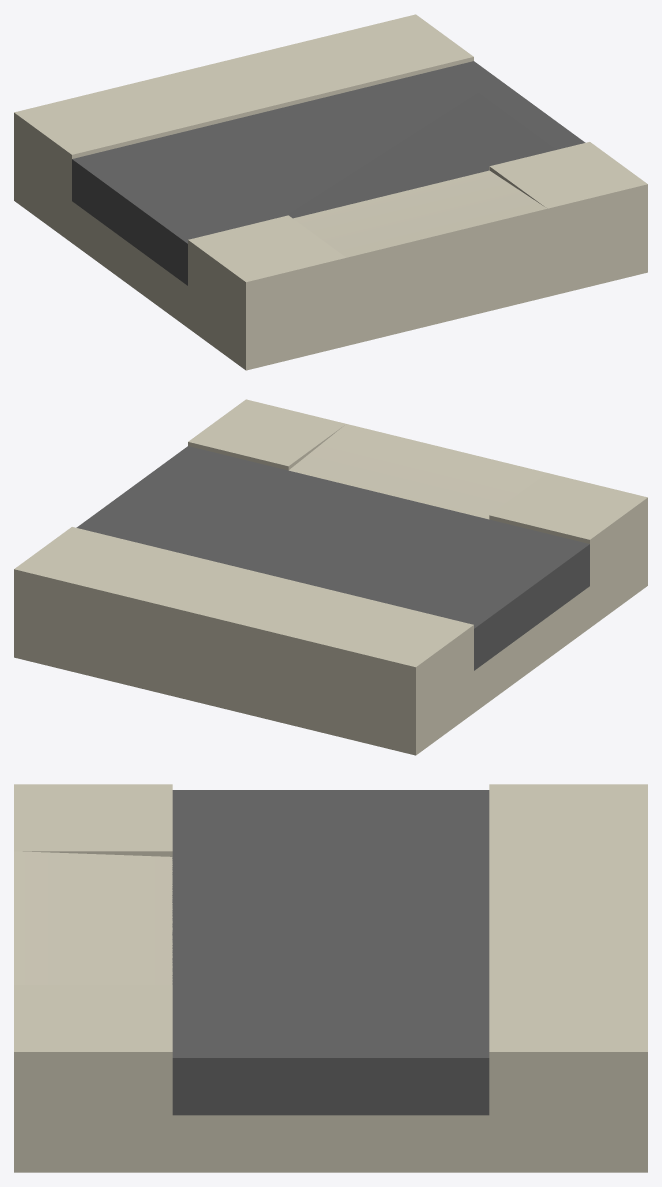
Rendered from tile035.dae.
3 renders of one model, top to bottom at view 1: azimuth 30°, elevation 25°; view 2: azimuth 150°, elevation 25°; view 3: azimuth 270°, elevation 25°, orthographic. The views are drawn at different scales.
Parts seen in each view (by area): view 1: tile035; view 2: tile035; view 3: tile035.
Part boxes in pixels (<box>): tile035: <box>14,14,647,370</box>; tile035: <box>14,399,647,755</box>; tile035: <box>14,784,647,1172</box>.
Size of the model in its own units: 1 by 0.21 by 1.
